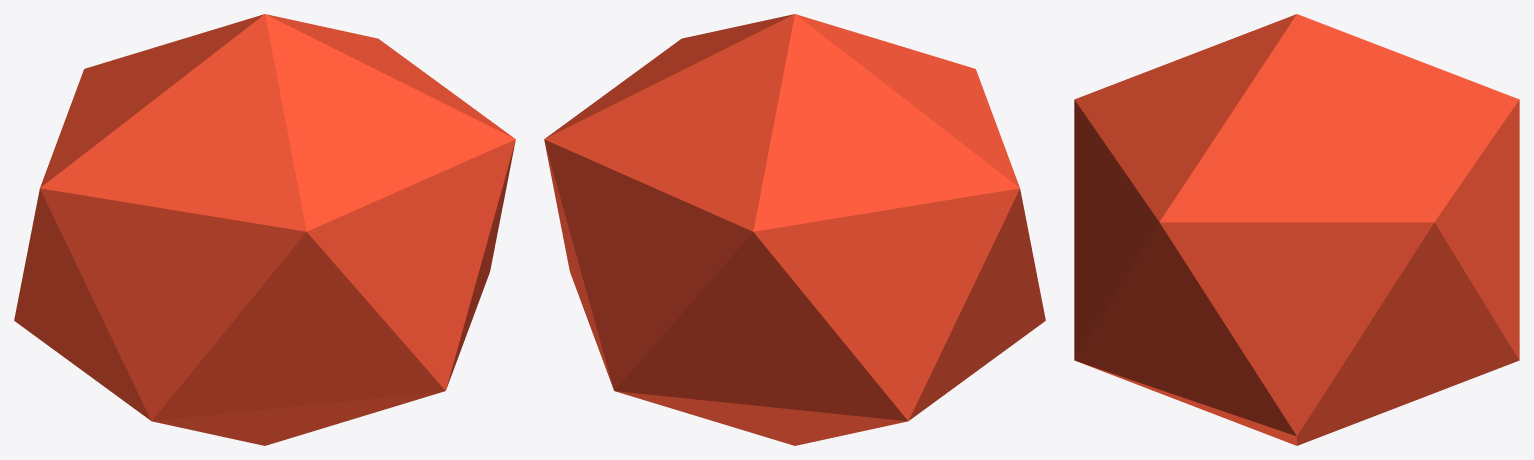
The model's file is PR_SlingStone.fbx.
3 views of the same model, side by side, from view 1: azimuth 30°, elevation 25°; view 2: azimuth 150°, elevation 25°; view 3: azimuth 270°, elevation 25° (orthographic).
Parts seen in each view (by area): view 1: PR_SlingStone; view 2: PR_SlingStone; view 3: PR_SlingStone.
Part boxes in pixels (box(x1,y1,x2,y2)): PR_SlingStone: box(14, 14, 515, 445); PR_SlingStone: box(544, 14, 1045, 445); PR_SlingStone: box(1074, 14, 1519, 445).
Size of the model in its own units: 0.2147 by 0.1837 by 0.1968.
